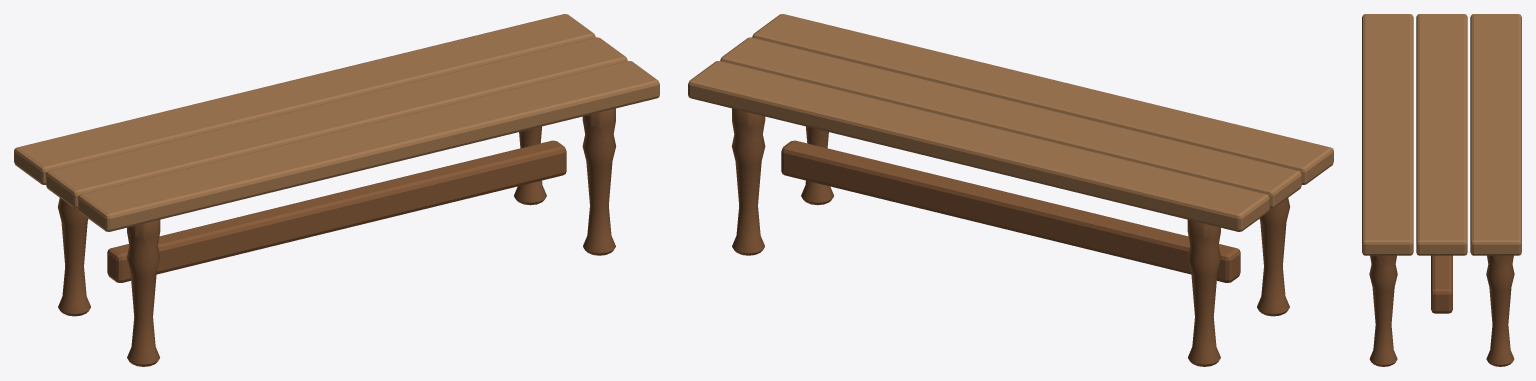
File: bench.glb
The picture shows the model from 3 angles, left to right: view 1: azimuth 30°, elevation 25°; view 2: azimuth 150°, elevation 25°; view 3: azimuth 270°, elevation 25°; orthographic projection. The views are drawn at different scales.
Visible parts, largest first — view 1: seat_0.001, seat_1.001, seat_2.001, stretcher.002, turned_leg.008, turned_leg.010, turned_leg.009, turned_leg.011; view 2: seat_2.001, seat_1.001, seat_0.001, stretcher.002, turned_leg.009, turned_leg.011, turned_leg.008, turned_leg.010; view 3: seat_1.001, seat_0.001, seat_2.001, turned_leg.010, turned_leg.011, stretcher.002.
Part boxes in pixels (<box>): seat_0.001: <box>78,61,659,231</box>; seat_1.001: <box>46,37,627,208</box>; seat_2.001: <box>14,14,595,184</box>; stretcher.002: <box>107,140,566,282</box>; turned_leg.008: <box>127,219,160,366</box>; turned_leg.010: <box>582,108,616,255</box>; turned_leg.009: <box>58,198,90,316</box>; turned_leg.011: <box>514,126,546,205</box>; seat_2.001: <box>688,61,1269,231</box>; seat_1.001: <box>720,37,1301,208</box>; seat_0.001: <box>752,14,1333,184</box>; stretcher.002: <box>781,140,1240,282</box>; turned_leg.009: <box>1187,219,1220,366</box>; turned_leg.011: <box>731,108,765,255</box>; turned_leg.008: <box>1257,198,1289,316</box>; turned_leg.010: <box>801,126,833,205</box>; seat_1.001: <box>1416,14,1467,255</box>; seat_0.001: <box>1362,14,1413,255</box>; seat_2.001: <box>1470,14,1521,255</box>; turned_leg.010: <box>1369,255,1397,366</box>; turned_leg.011: <box>1486,255,1514,366</box>; stretcher.002: <box>1431,255,1452,313</box>.
Size of the model in its own units: 1.6 by 0.46 by 0.472.
